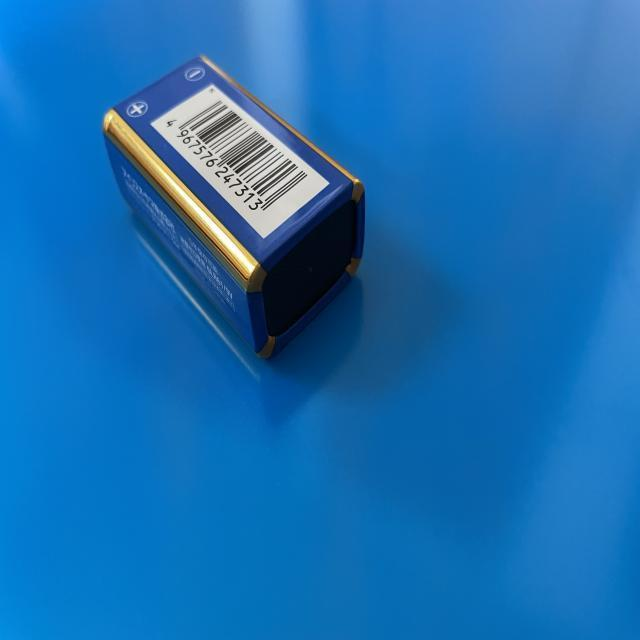9V: (103, 57, 366, 361)
